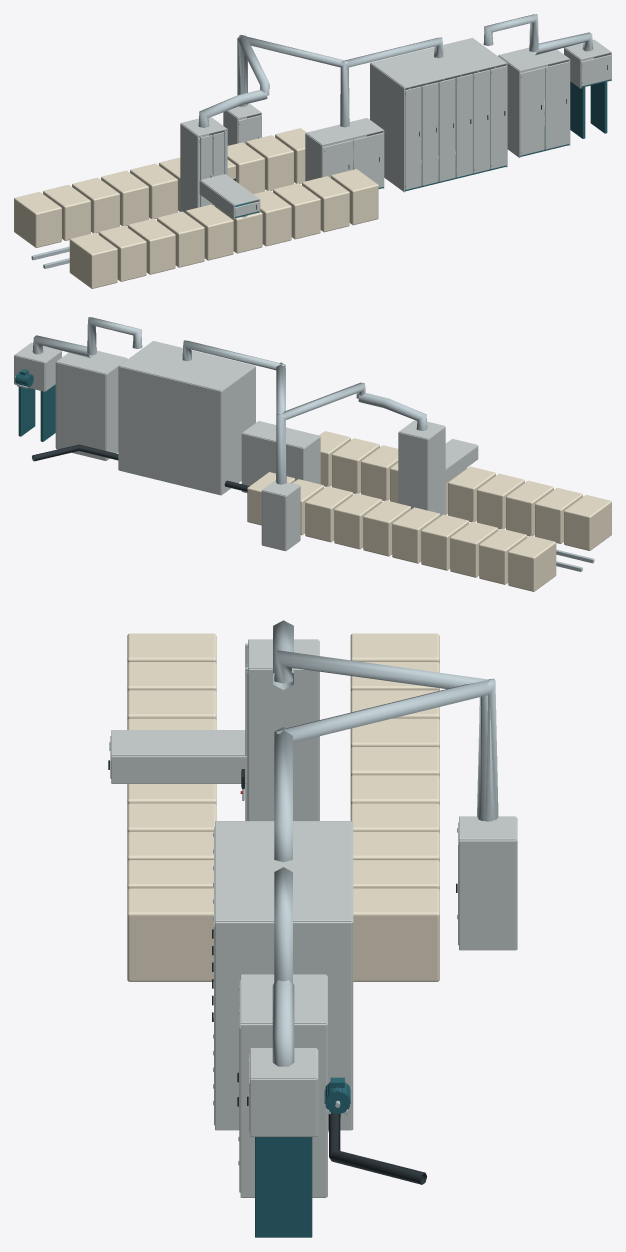
The model's file is opening.glb.
The picture shows the model from 3 angles, top to bottom: view 1: azimuth 30°, elevation 25°; view 2: azimuth 150°, elevation 25°; view 3: azimuth 270°, elevation 25°; orthographic projection. The views are drawn at different scales.
Visible parts, largest first — view 1: B72_roof, B72_end, cotton_bale, cotton_bale.001, A79_door.001, A79_door, B72_door, B72_door.001, B72_door.002, B72_door.005, B72_door.003, B72_door.004 (+42 smaller); view 2: B72_rear, A79_rear, B72_roof, B72_end, cotton_bale.001, cotton_bale, A12_tower_rear, B12_rear, cotton_bale.003, cotton_bale.005, cotton_bale.015, cotton_bale.007 (+33 smaller); view 3: B72_end.001, B72_roof, A12_tower_end.001, cotton_bale.019, cotton_bale.018, A49_end.001, condenser_support.001, intermachine_tuft_duct, A79_end.001, intermachine_tuft_duct.001, A21_end.001, A12_plucking_arm_end.001 (+27 smaller).
Boxes of the visible parts, x1,y1,x2,y2 form: B72_roof: [371, 38, 506, 88]; B72_end: [370, 63, 405, 192]; cotton_bale: [69, 232, 117, 288]; cotton_bale.001: [14, 192, 61, 247]; A79_door.001: [545, 61, 569, 149]; A79_door: [520, 67, 544, 155]; B72_door: [405, 86, 421, 189]; B72_door.001: [422, 82, 438, 185]; B72_door.002: [439, 78, 455, 181]; B72_door.005: [490, 65, 506, 169]; B72_door.003: [456, 74, 472, 177]; B72_door.004: [473, 69, 489, 173]; B72_rear: [118, 366, 221, 495]; A79_rear: [56, 362, 105, 460]; B72_roof: [119, 341, 254, 390]; B72_end: [221, 366, 255, 495]; cotton_bale.001: [508, 535, 556, 591]; cotton_bale: [564, 495, 611, 550]; A12_tower_rear: [398, 432, 427, 510]; B12_rear: [242, 433, 303, 492]; cotton_bale.003: [479, 528, 527, 584]; cotton_bale.005: [450, 521, 498, 577]; cotton_bale.015: [305, 486, 352, 542]; cotton_bale.007: [421, 514, 468, 570]; B72_end.001: [215, 922, 351, 1130]; B72_roof: [215, 821, 351, 921]; A12_tower_end.001: [248, 668, 318, 820]; cotton_bale.019: [353, 888, 439, 981]; cotton_bale.018: [127, 888, 213, 981]; A49_end.001: [459, 840, 516, 950]; condenser_support.001: [255, 1137, 312, 1237]; intermachine_tuft_duct: [274, 650, 498, 821]; A79_end.001: [240, 1024, 326, 1197]; intermachine_tuft_duct.001: [276, 678, 496, 821]; A21_end.001: [250, 1078, 316, 1136]; A12_plucking_arm_end.001: [111, 756, 247, 783].
Bounding box in the file's own units: 20.47 × 4.47 × 6.42.
